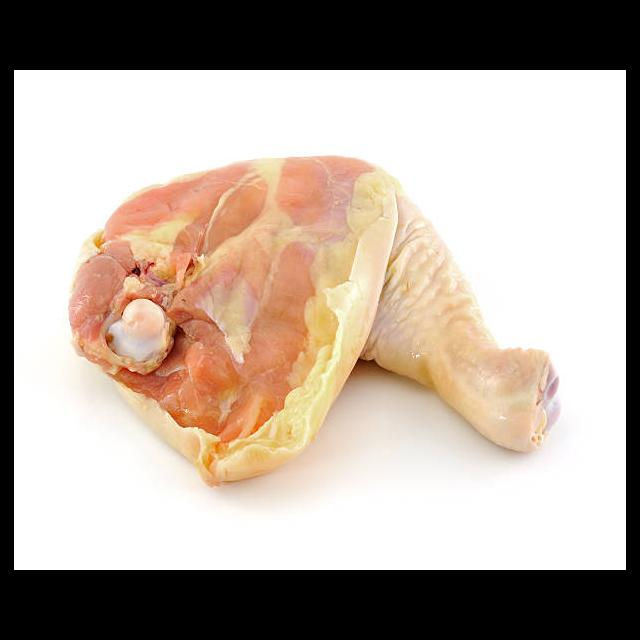chicken: (66, 152, 562, 487)
